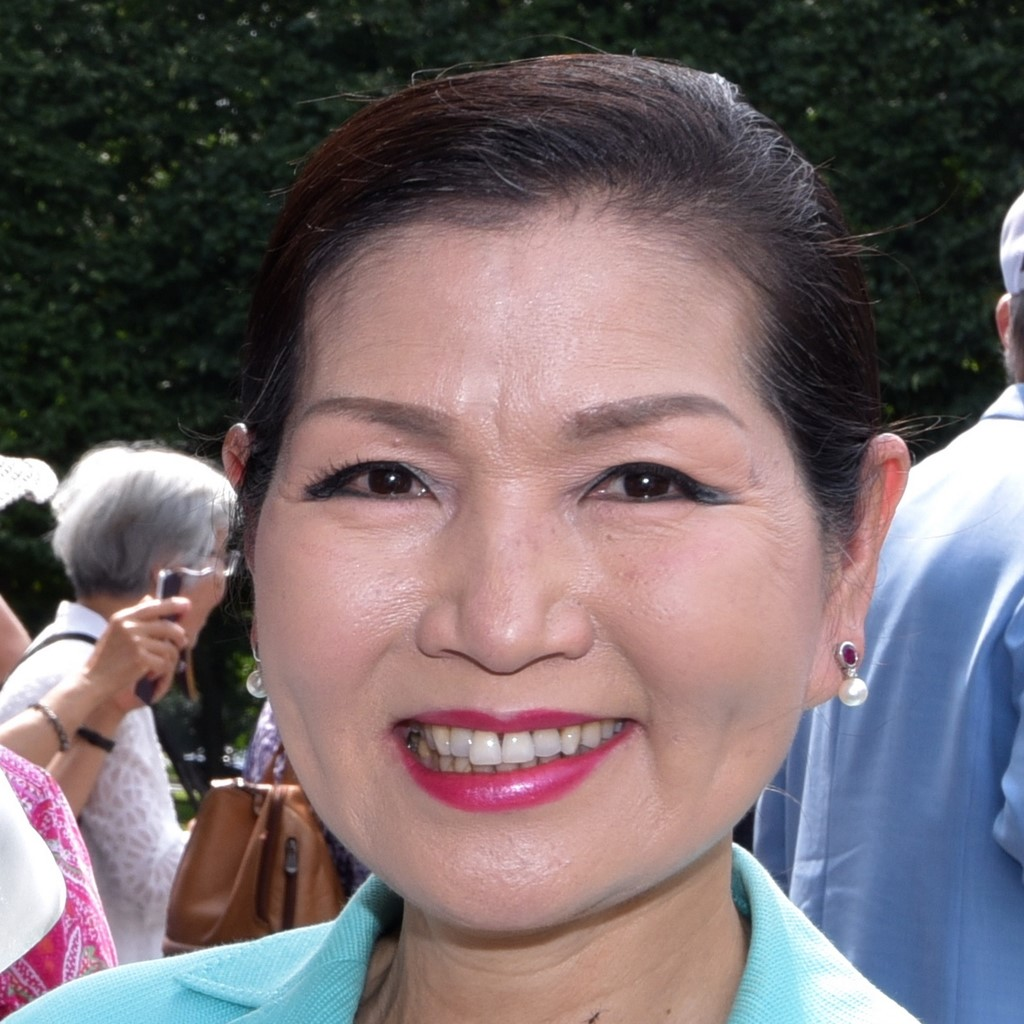sin_mascara: (237, 145, 843, 941)
